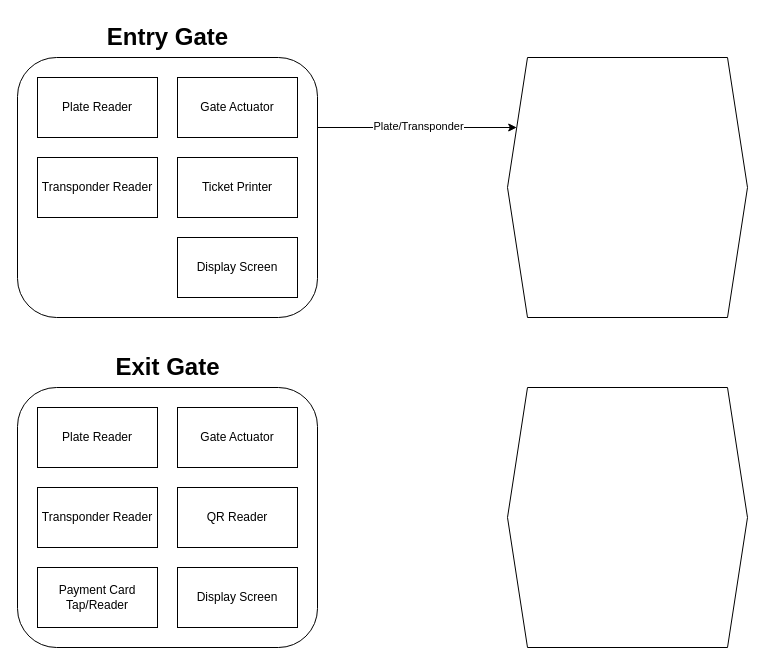
Some shapes in this 765 by 665 pixel diagram are drawn without their labels. The shapes that lost their labels are listed below. From the top down, each one's centre as x and y in pixels, then its label:
At point 627,187: "Entry System".
At point 627,517: "Exit System".
